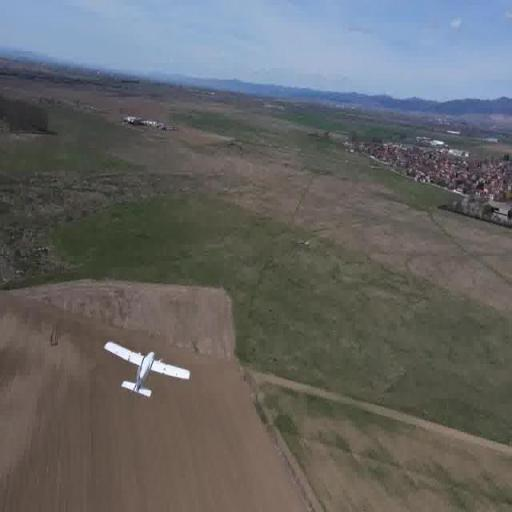uav: (103, 334, 194, 406)
